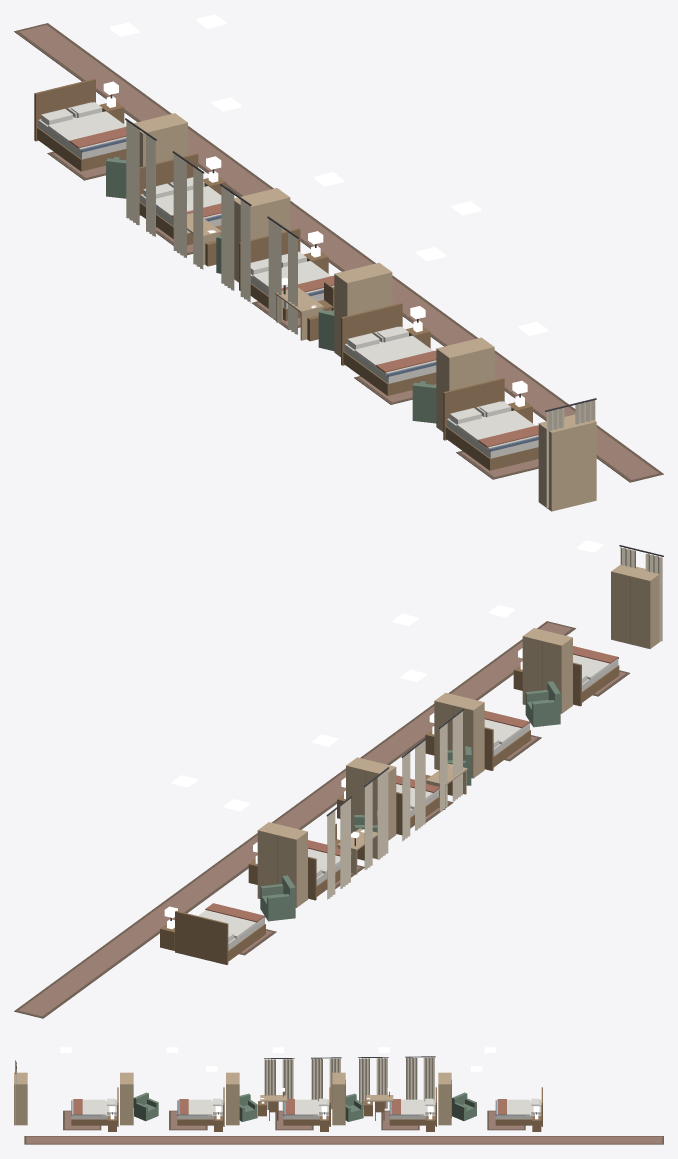
The model's file is fine-s2.glb.
3 views of the same model, one above another, from view 1: azimuth 30°, elevation 25°; view 2: azimuth 150°, elevation 25°; view 3: azimuth 270°, elevation 25° (orthographic). The views are drawn at different scales.
Visible parts, largest first — view 1: soft-s2, dresser.009, bed-frame.009, bed-frame.008, bed-frame.005, dresser.008, dresser.007, dresser.006, dresser.005, bed-frame.006, bed-frame.007, writing-desk.003 (+2 smaller); view 2: soft-s2, dresser.009, dresser.005, dresser.008, bed-frame.005, dresser.007, dresser.006, lounge-chair.007, lounge-chair.004, bed-frame.008, bed-frame.009, bed-frame.006; view 3: soft-s2, dresser.005, dresser.006, dresser.007, dresser.008, dresser.009, bed-frame.005, lounge-chair.007, bed-frame.009, bed-frame.008, bed-frame.007, lounge-chair.004 (+5 smaller).
Part boxes in pixels (left/top/right/bottom): soft-s2: left=14, top=23, right=663, bottom=508; dresser.009: left=538, top=414, right=596, bottom=511; bed-frame.009: left=443, top=377, right=538, bottom=470; bed-frame.008: left=341, top=303, right=436, bottom=395; bed-frame.005: left=34, top=78, right=126, bottom=171; dresser.008: left=436, top=337, right=494, bottom=431; dresser.007: left=334, top=262, right=392, bottom=356; dresser.006: left=234, top=188, right=290, bottom=282; dresser.005: left=133, top=113, right=187, bottom=166; bed-frame.006: left=139, top=153, right=221, bottom=245; bed-frame.007: left=239, top=228, right=334, bottom=321; writing-desk.003: left=275, top=277, right=323, bottom=340; soft-s2: left=14, top=545, right=663, bottom=1018; dresser.009: left=611, top=564, right=660, bottom=648; dresser.005: left=257, top=822, right=307, bottom=907; dresser.008: left=522, top=628, right=572, bottom=713; bed-frame.005: left=175, top=910, right=265, bottom=964; dresser.007: left=434, top=692, right=484, bottom=778; dresser.006: left=346, top=757, right=396, bottom=840; lounge-chair.007: left=525, top=681, right=560, bottom=727; lounge-chair.004: left=260, top=875, right=295, bottom=921; bed-frame.008: left=484, top=722, right=530, bottom=770; bed-frame.009: left=573, top=657, right=619, bottom=706; bed-frame.006: left=308, top=856, right=351, bottom=900; soft-s2: left=15, top=1056, right=663, bottom=1144; dresser.005: left=438, top=1072, right=451, bottom=1125; dresser.006: left=332, top=1072, right=345, bottom=1125; dresser.007: left=226, top=1072, right=239, bottom=1125; dresser.008: left=120, top=1072, right=133, bottom=1125; dresser.009: left=14, top=1072, right=27, bottom=1125; bed-frame.005: left=495, top=1087, right=542, bottom=1126; lounge-chair.007: left=133, top=1092, right=158, bottom=1121; bed-frame.009: left=71, top=1087, right=118, bottom=1126; bed-frame.008: left=177, top=1087, right=224, bottom=1126; bed-frame.007: left=283, top=1087, right=330, bottom=1126; lounge-chair.004: left=452, top=1092, right=476, bottom=1121.
Size of the model in its own units: 3.79 by 3.53 by 28.79.
